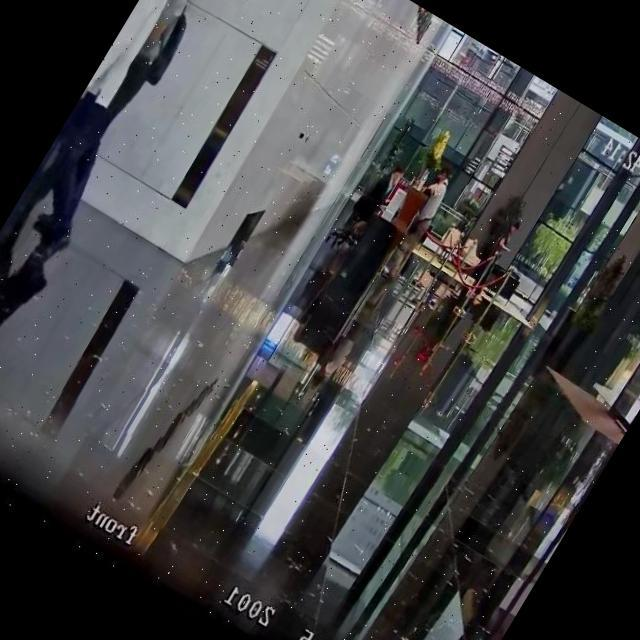person: (0, 0, 233, 280), (10, 0, 235, 264), (0, 0, 216, 266), (372, 162, 460, 285), (344, 156, 410, 244), (465, 218, 525, 302)
